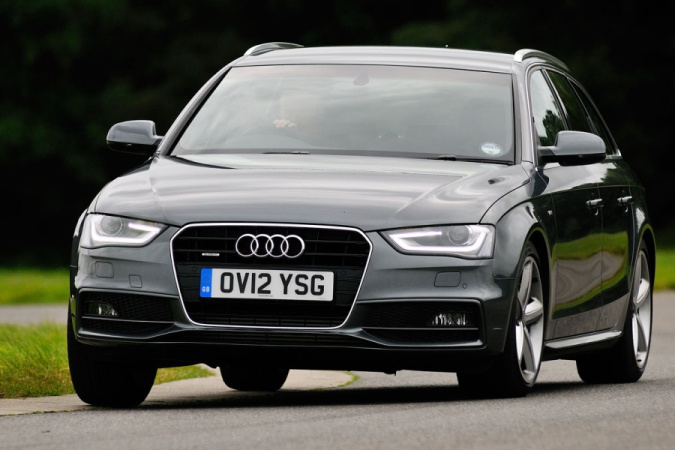audi: (229, 229, 312, 263)
